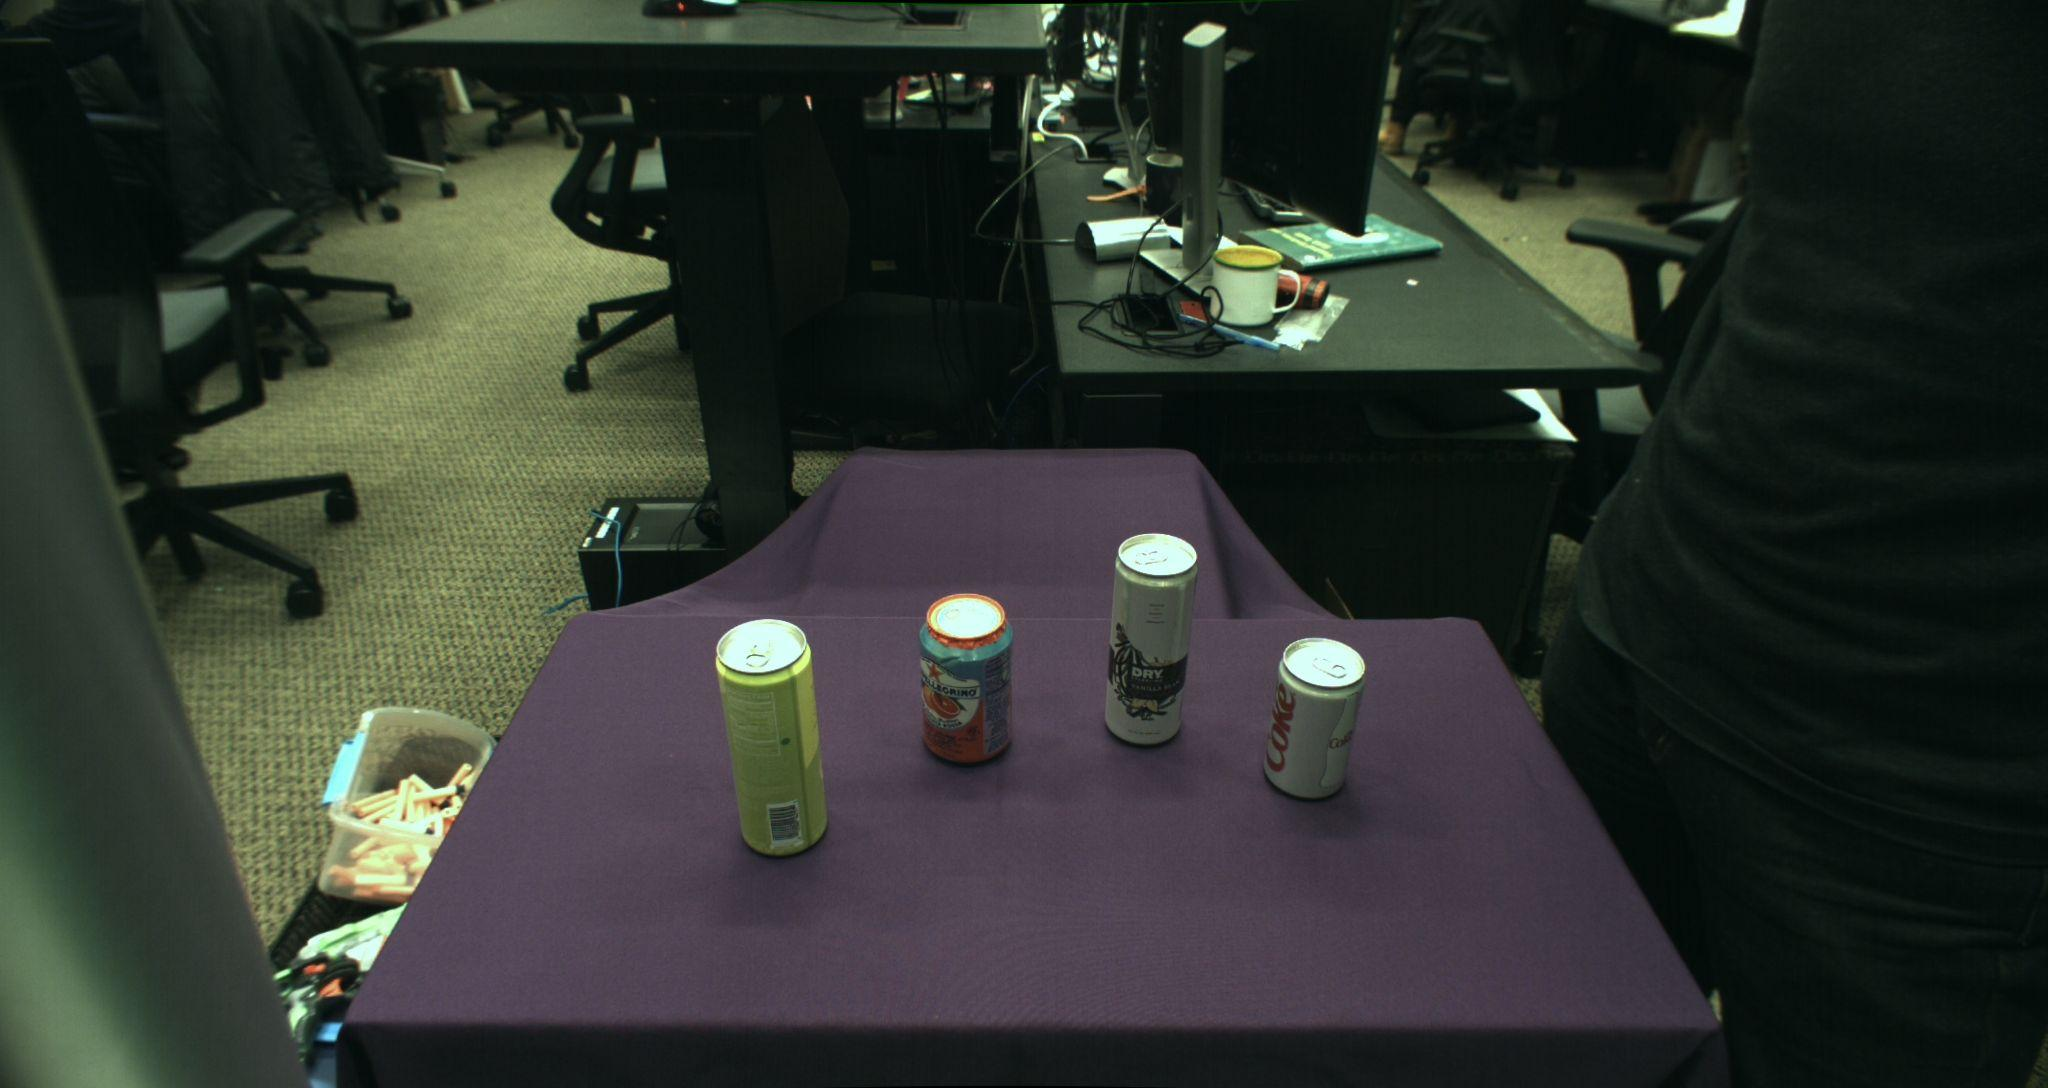can_diet_coke_small: (1262, 637, 1365, 799)
can_dry_sparkling_vanilla_bean: (1105, 534, 1197, 745)
can_izze_fusions_lemon_lime: (715, 619, 828, 856)
can_sanpellegrino_blood_orange: (917, 593, 1013, 764)
